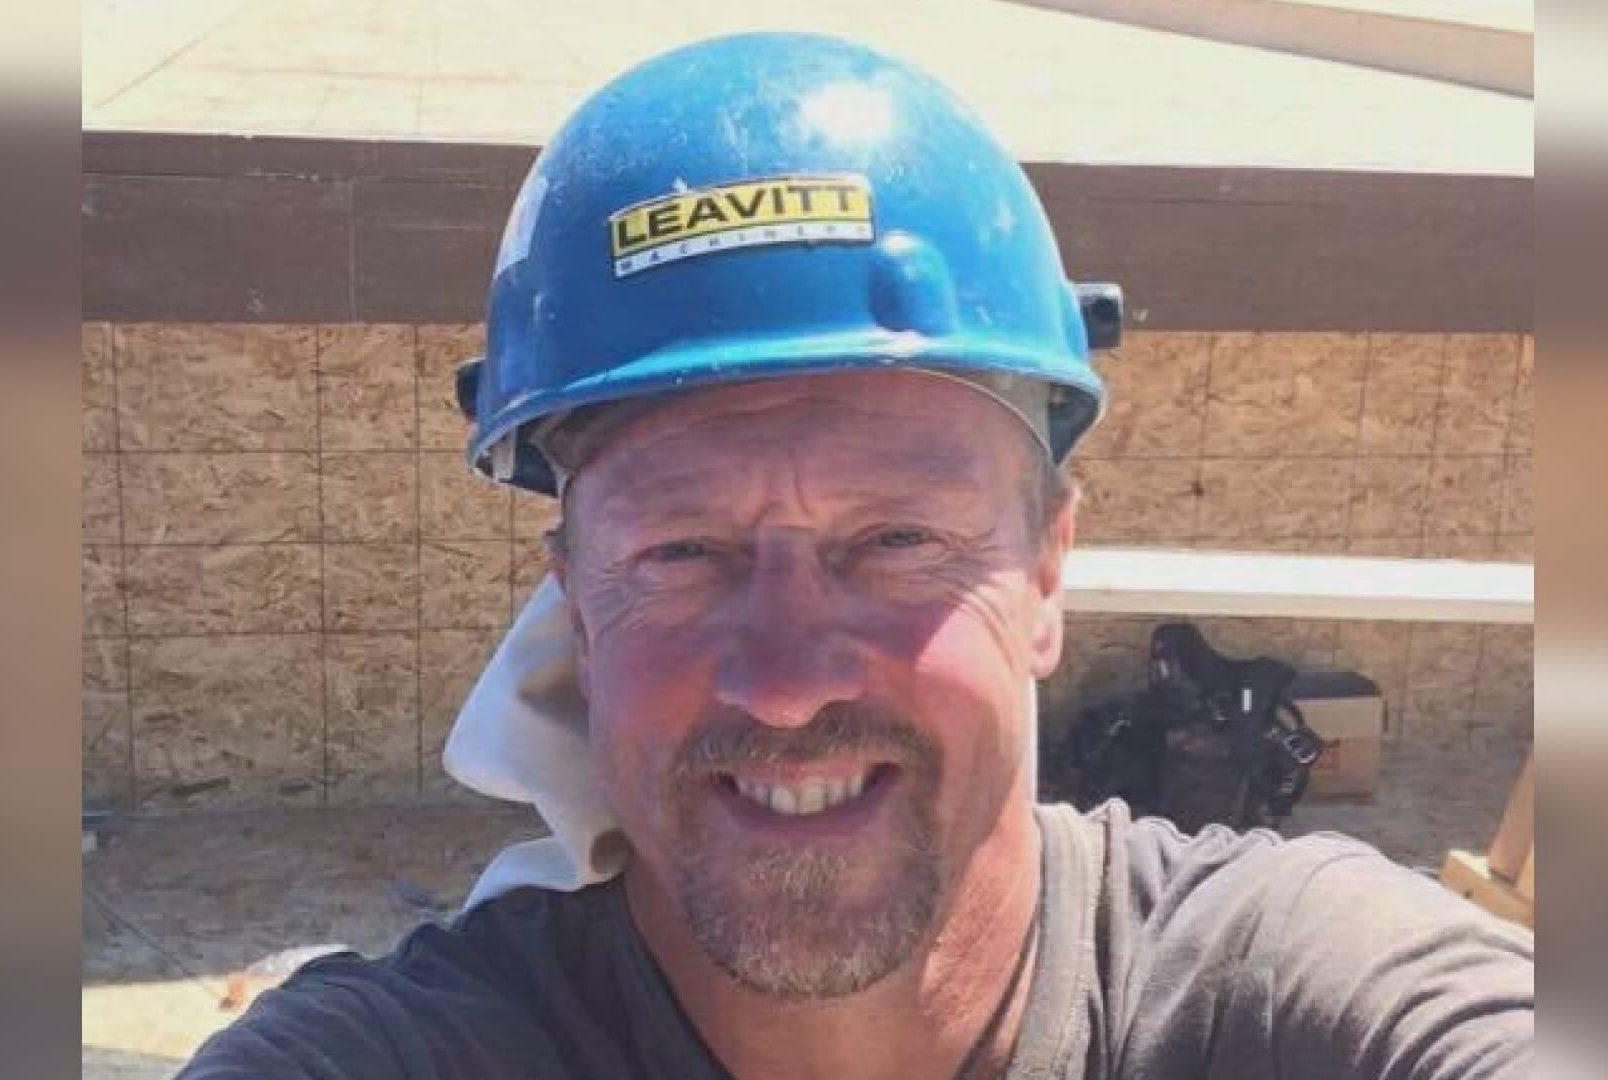helmet: (463, 34, 1109, 497)
